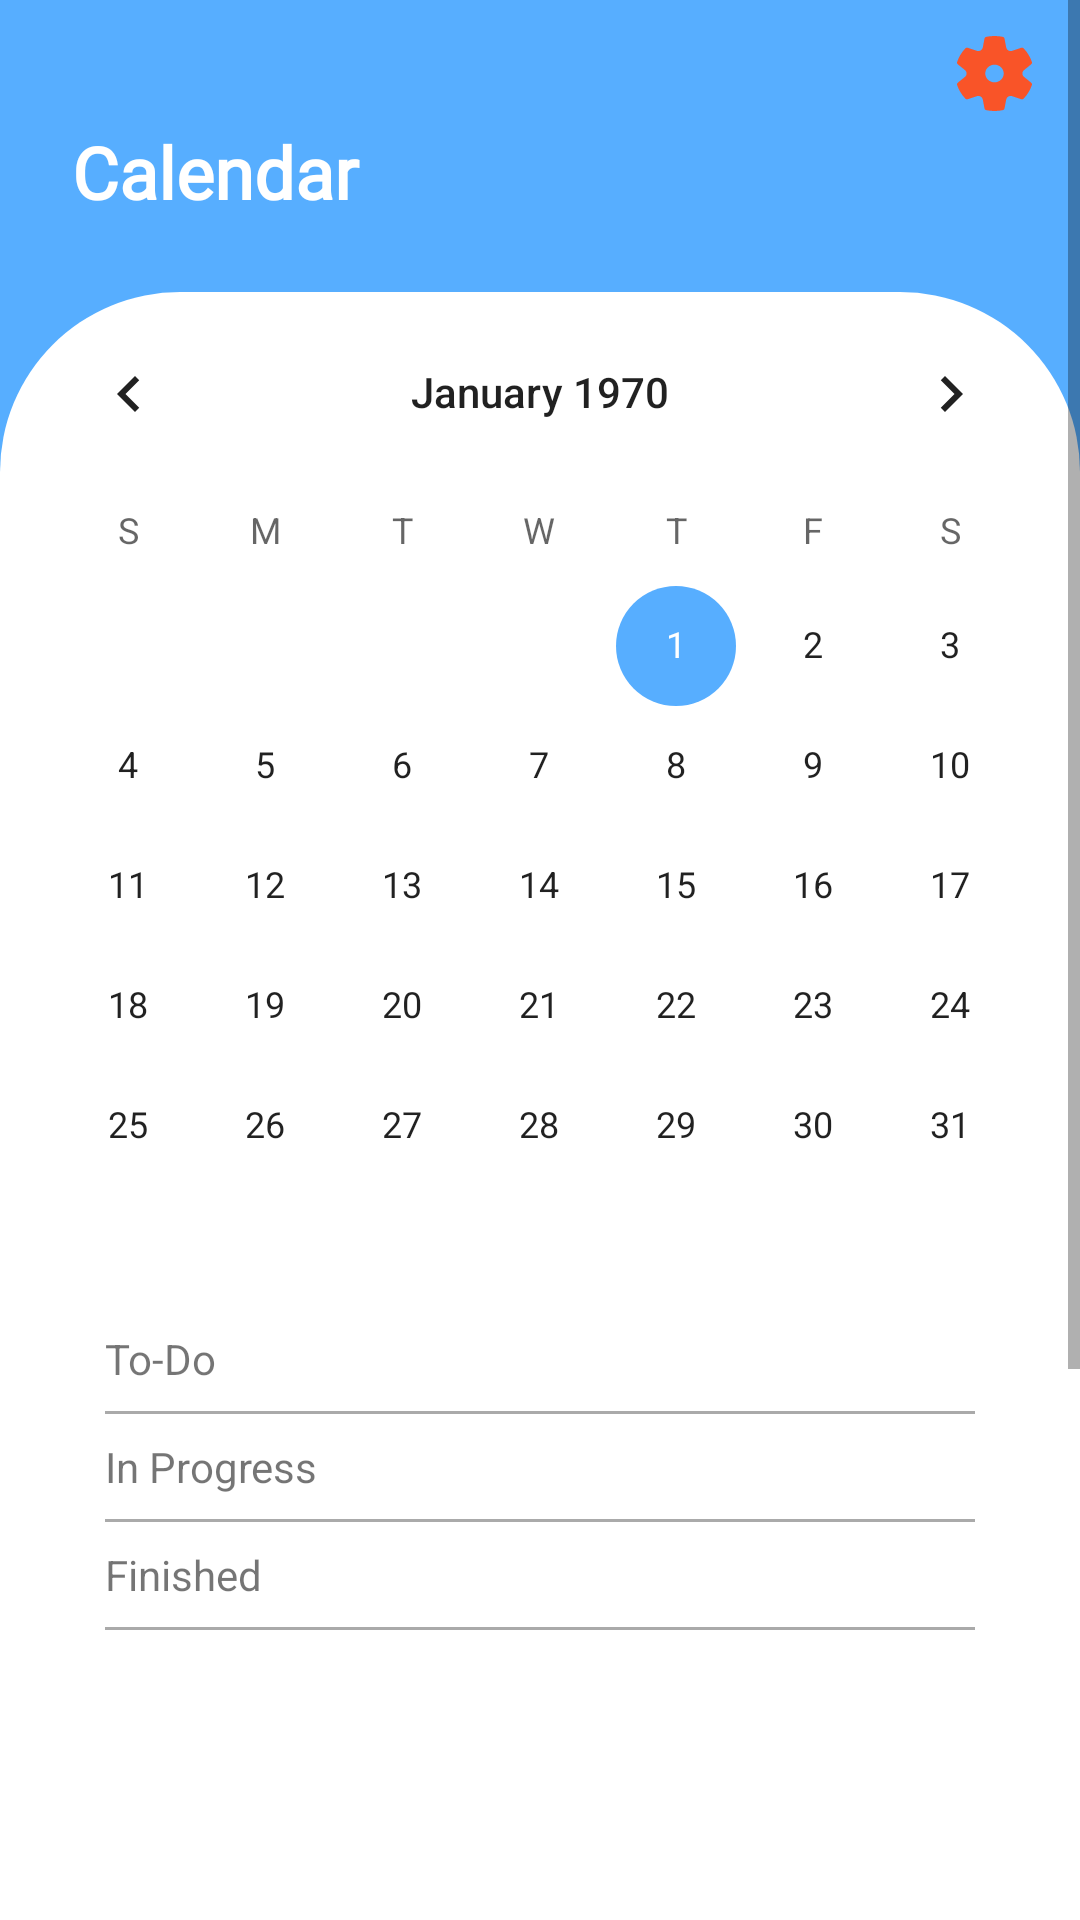

Icons on this 1080 × 1920 Android screen, each with its box as bbox=(x1, y1, x2, y2):
settings: bbox=(957, 36, 1032, 111)
